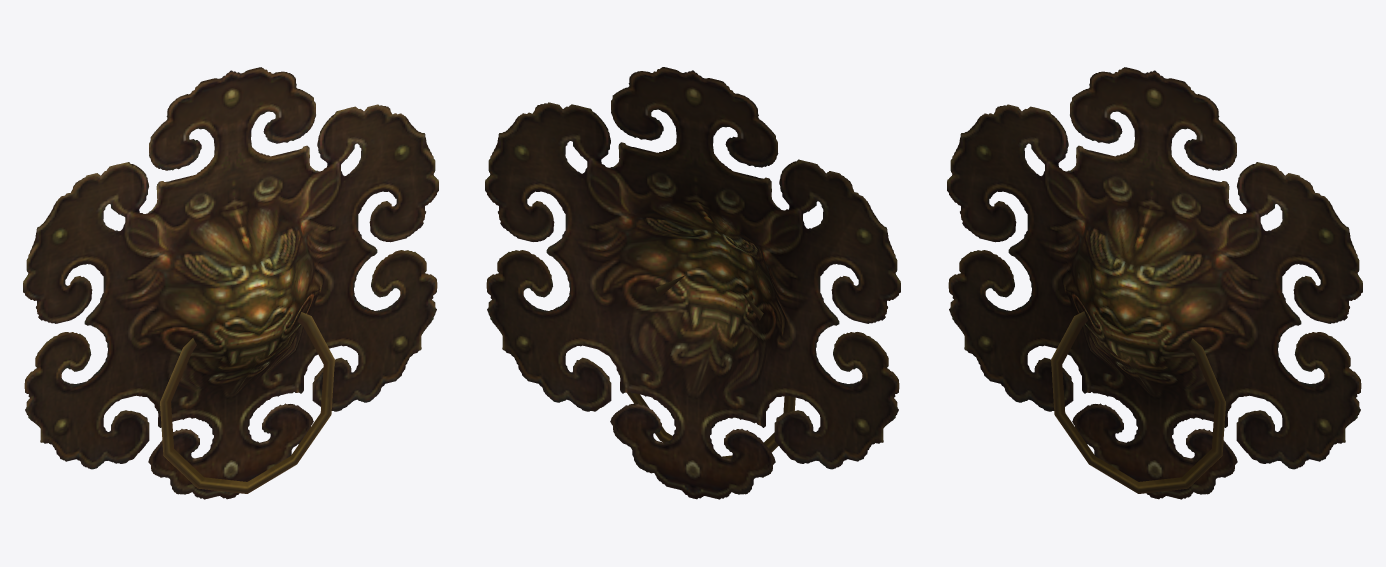
Rendered from fb_jianhugong_shoutou01.FBX.
3 views of the same model, side by side, from view 1: azimuth 30°, elevation 25°; view 2: azimuth 150°, elevation 25°; view 3: azimuth 330°, elevation 25° (orthographic).
Visible parts, largest first — view 1: fb_jianhugong_shoutou01; view 2: fb_jianhugong_shoutou01; view 3: fb_jianhugong_shoutou01.
Boxes of the visible parts, bbox=[...] form: fb_jianhugong_shoutou01: bbox=[23, 67, 438, 499]; fb_jianhugong_shoutou01: bbox=[485, 67, 900, 499]; fb_jianhugong_shoutou01: bbox=[947, 67, 1362, 499].
Size of the model in its own units: 235 by 224 by 28.71.
